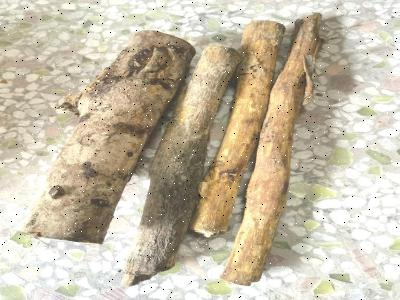Root: (123, 14, 320, 286), (25, 31, 194, 243)
